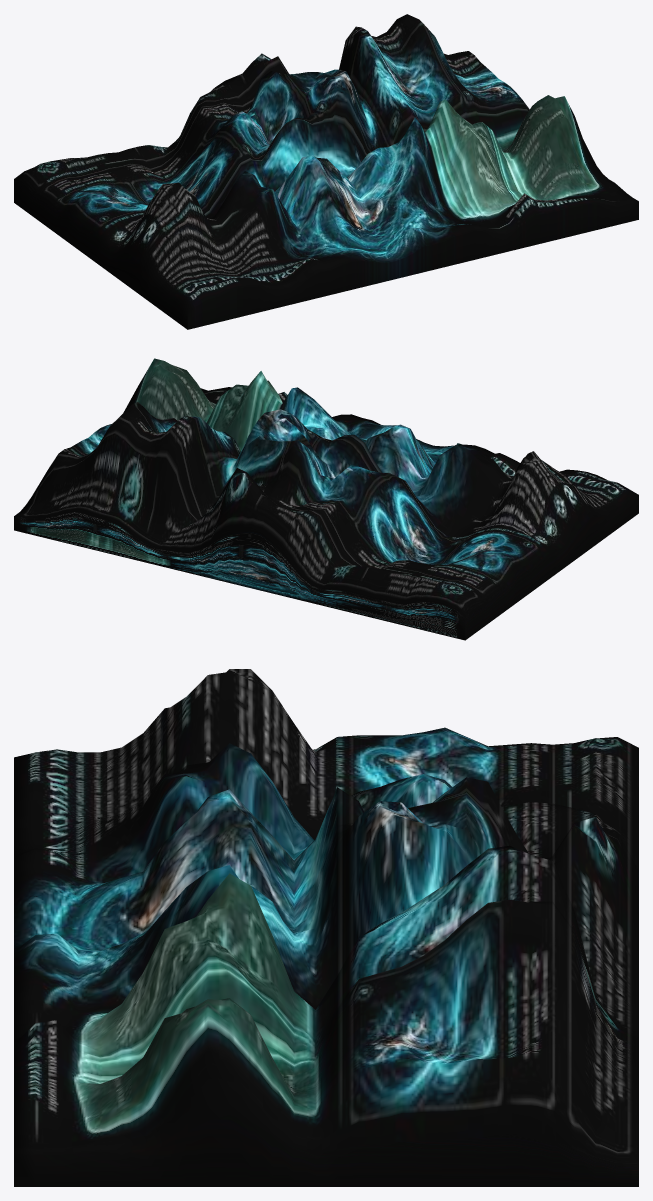
Rendered from CUL_31_Dragon.glb.
3 views of the same model, one above another, from view 1: azimuth 30°, elevation 25°; view 2: azimuth 150°, elevation 25°; view 3: azimuth 270°, elevation 25° (orthographic). The views are drawn at different scales.
Visible parts, largest first — view 1: CUL_31_Dragon; view 2: CUL_31_Dragon; view 3: CUL_31_Dragon.
Part boxes in pixels (<box>): CUL_31_Dragon: <box>14,14,638,329</box>; CUL_31_Dragon: <box>14,358,638,640</box>; CUL_31_Dragon: <box>14,669,638,1186</box>.
Size of the model in its own units: 2 by 0.51 by 1.33.
1 material, 1 textured.
